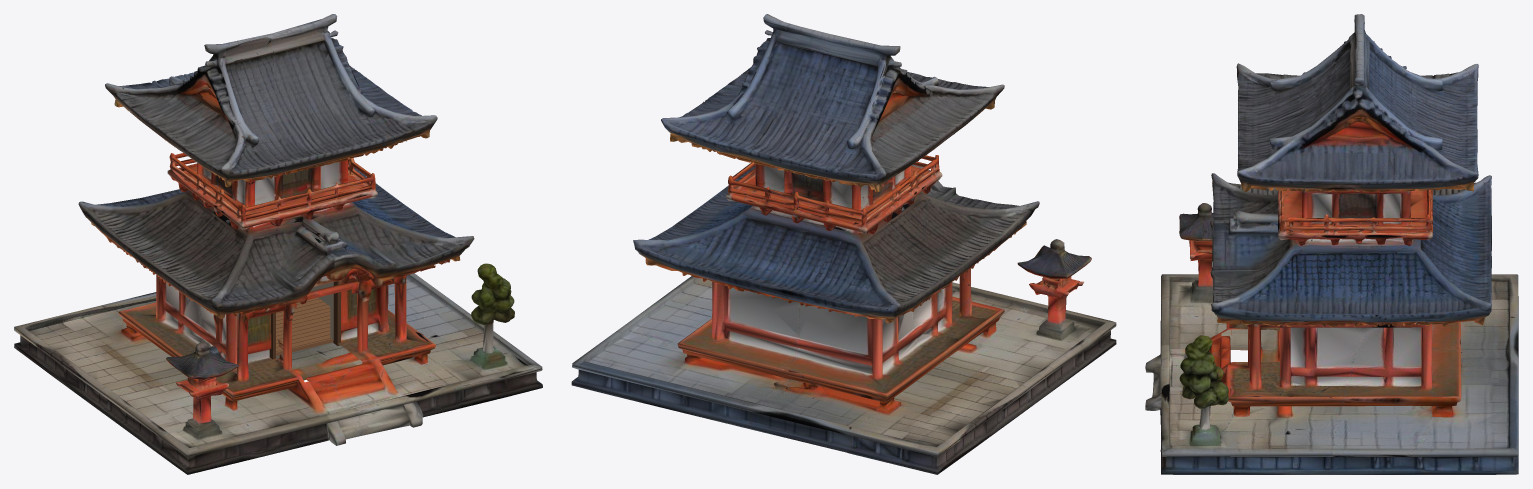
File: temple-lod.glb
3 renders of one model, left to right at view 1: azimuth 30°, elevation 25°; view 2: azimuth 150°, elevation 25°; view 3: azimuth 270°, elevation 25°, orthographic. The views are drawn at different scales.
Parts seen in each view (by area): view 1: temple-far; view 2: temple-far; view 3: temple-far.
Boxes of the visible parts, x1,y1,x2,y2 form: temple-far: (14,14,542,474); temple-far: (571,14,1116,474); temple-far: (1145,14,1518,474).
Size of the model in its own units: 0.9998 by 0.8892 by 0.8822.
4 materials, 1 textured.
